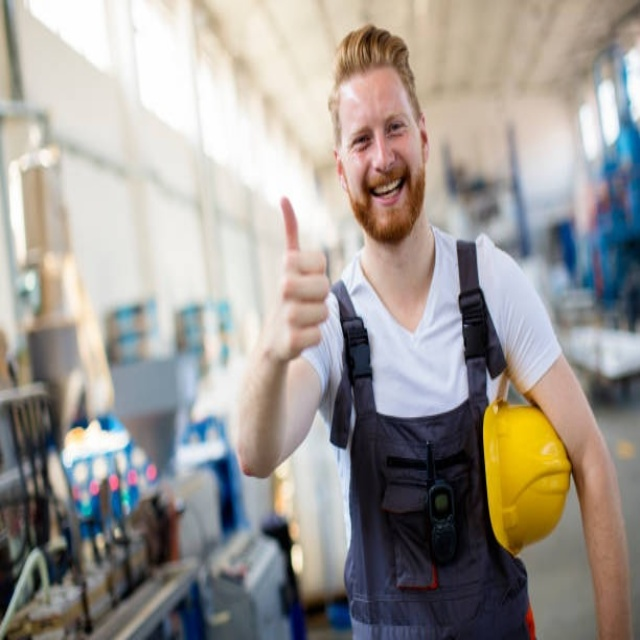Sin_gafas: (347, 100, 414, 160)
Sin_guantes: (269, 192, 335, 358)
Sin_mascara: (360, 169, 409, 226)
